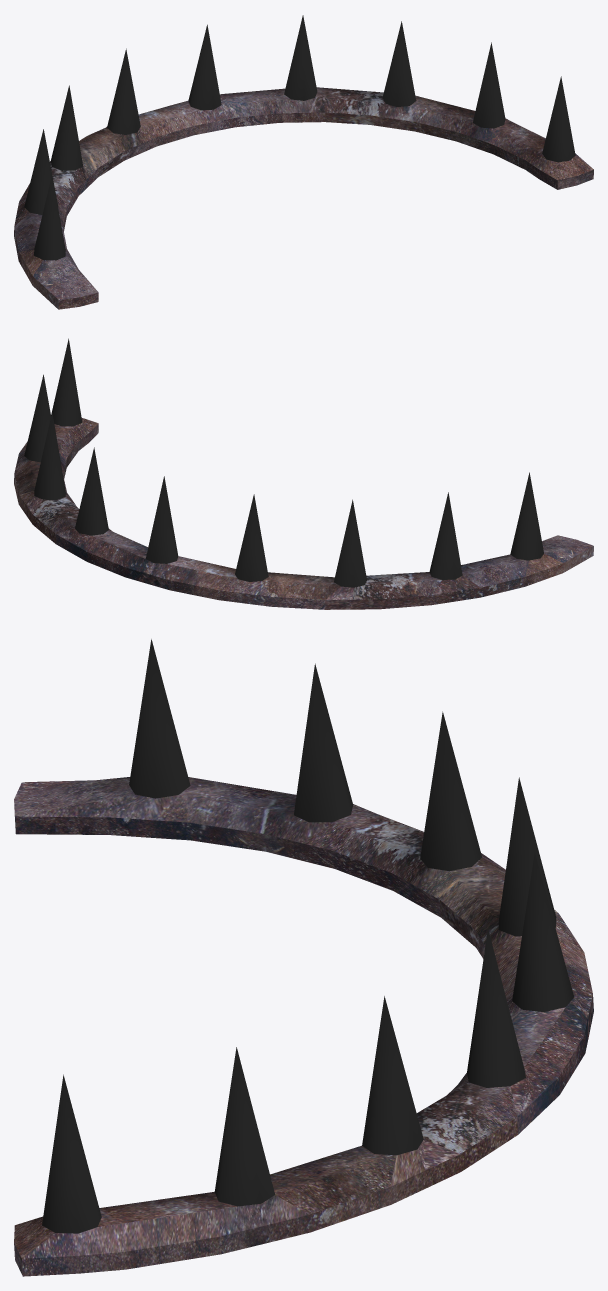
Rendered from TrapPart_JawNoHinges.obj.
3 views of the same model, one above another, from view 1: azimuth 30°, elevation 25°; view 2: azimuth 150°, elevation 25°; view 3: azimuth 270°, elevation 25° (orthographic). The views are drawn at different scales.
Parts seen in each view (by area): view 1: Cylinder001; view 2: Cylinder001; view 3: Cylinder001.
Boxes of the visible parts, x1=… form: Cylinder001: x1=14, y1=15, x2=593, y2=309; Cylinder001: x1=14, y1=338, x2=593, y2=609; Cylinder001: x1=14, y1=639, x2=593, y2=1276.
Bounding box in the file's own units: 37.94 × 7.64 × 19.51.
2 materials, 1 textured.
